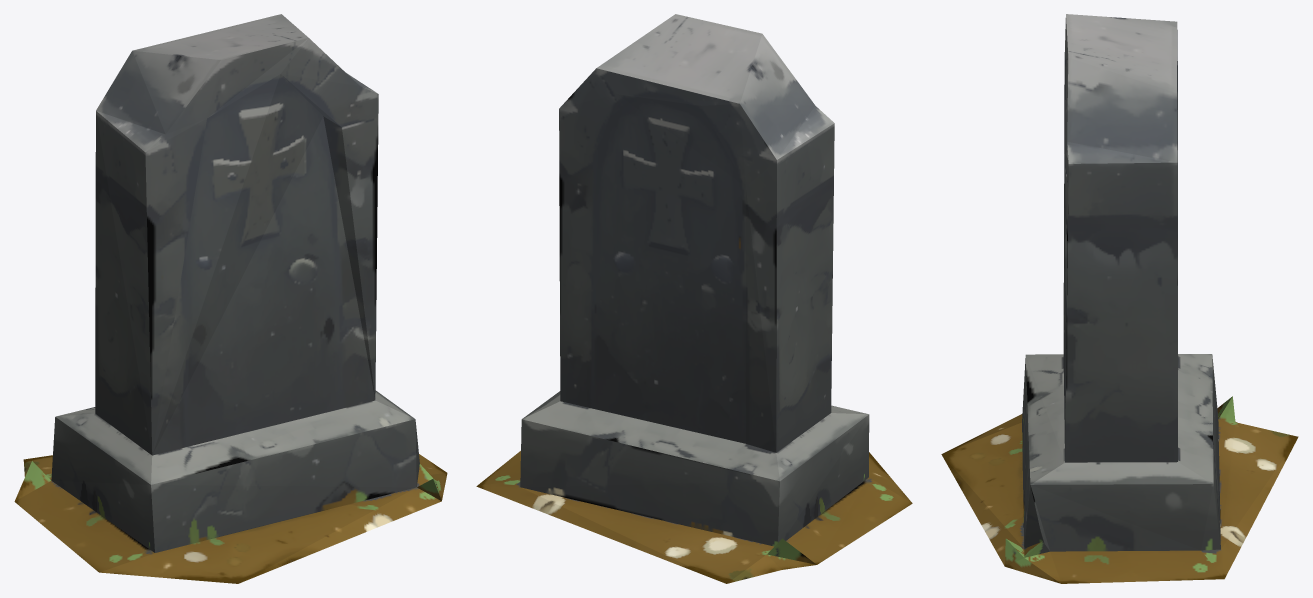
File: tombstone_lod2.glb
The picture shows the model from 3 angles, left to right: view 1: azimuth 30°, elevation 25°; view 2: azimuth 150°, elevation 25°; view 3: azimuth 270°, elevation 25°; orthographic projection. The views are drawn at different scales.
Visible parts, largest first — view 1: geometry_0; view 2: geometry_0; view 3: geometry_0.
Part boxes in pixels (box(x1,y1,x2,y2)): geometry_0: box(14, 14, 447, 583); geometry_0: box(476, 14, 912, 583); geometry_0: box(941, 14, 1298, 583).
Bounding box in the file's own units: 0.7315 × 0.9005 × 0.6289.
Materials: 1 (1 with a texture image).
